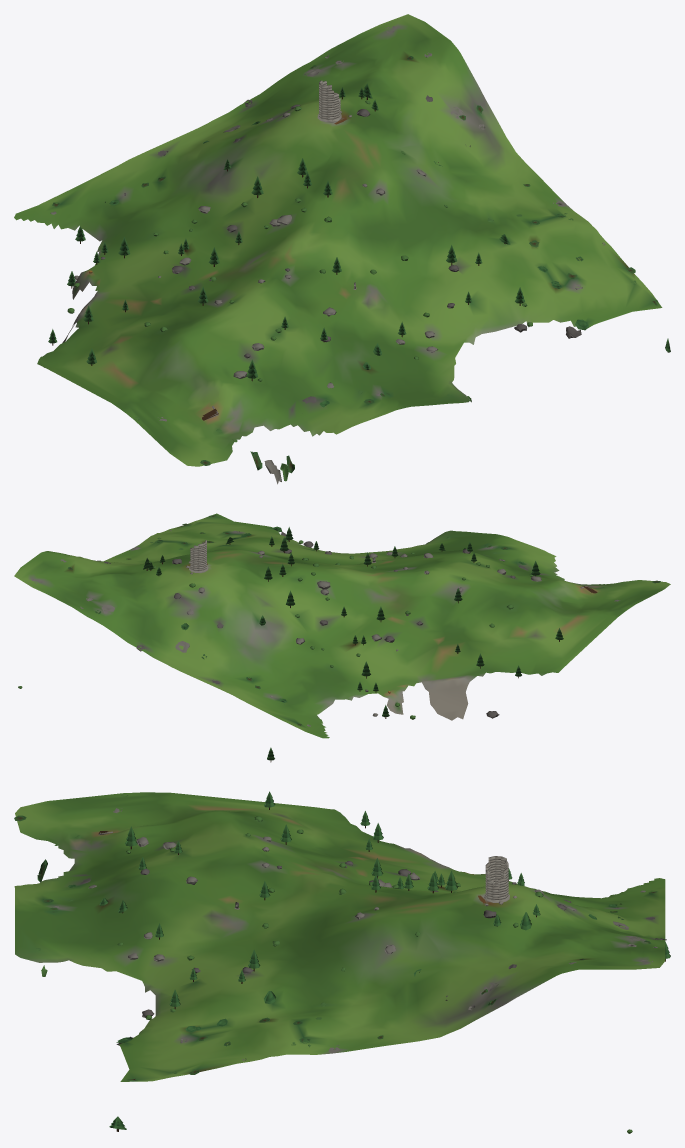
The model's file is arch_isl_lantern_rock_lod1.glb.
The picture shows the model from 3 angles, top to bottom: view 1: azimuth 30°, elevation 25°; view 2: azimuth 150°, elevation 25°; view 3: azimuth 270°, elevation 25°; orthographic projection. The views are drawn at different scales.
Visible parts, largest first — view 1: arch_isl_lantern_rock_lod1; view 2: arch_isl_lantern_rock_lod1; view 3: arch_isl_lantern_rock_lod1.
Part boxes in pixels (x1,y1,x2,y2): arch_isl_lantern_rock_lod1: (14, 14, 670, 484); arch_isl_lantern_rock_lod1: (14, 513, 670, 762); arch_isl_lantern_rock_lod1: (14, 791, 670, 1133).
Size of the model in its own units: 242 by 77.01 by 242.
